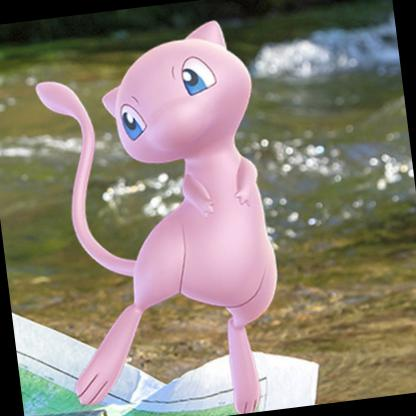Mew: (36, 38, 416, 416)
